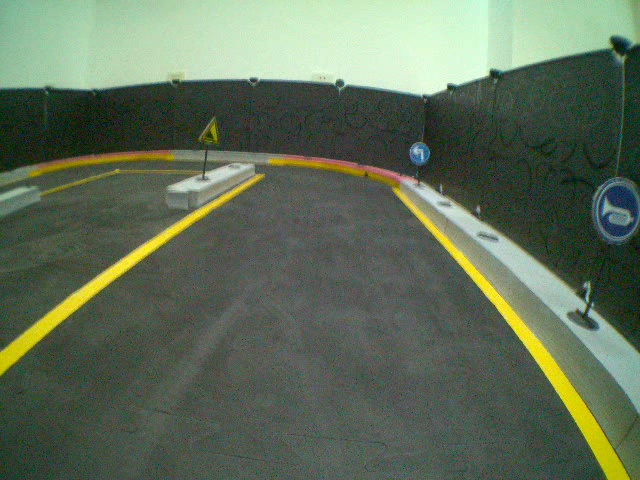fast: (197, 114, 223, 150)
horn: (590, 175, 640, 244)
turn: (408, 141, 432, 166)
